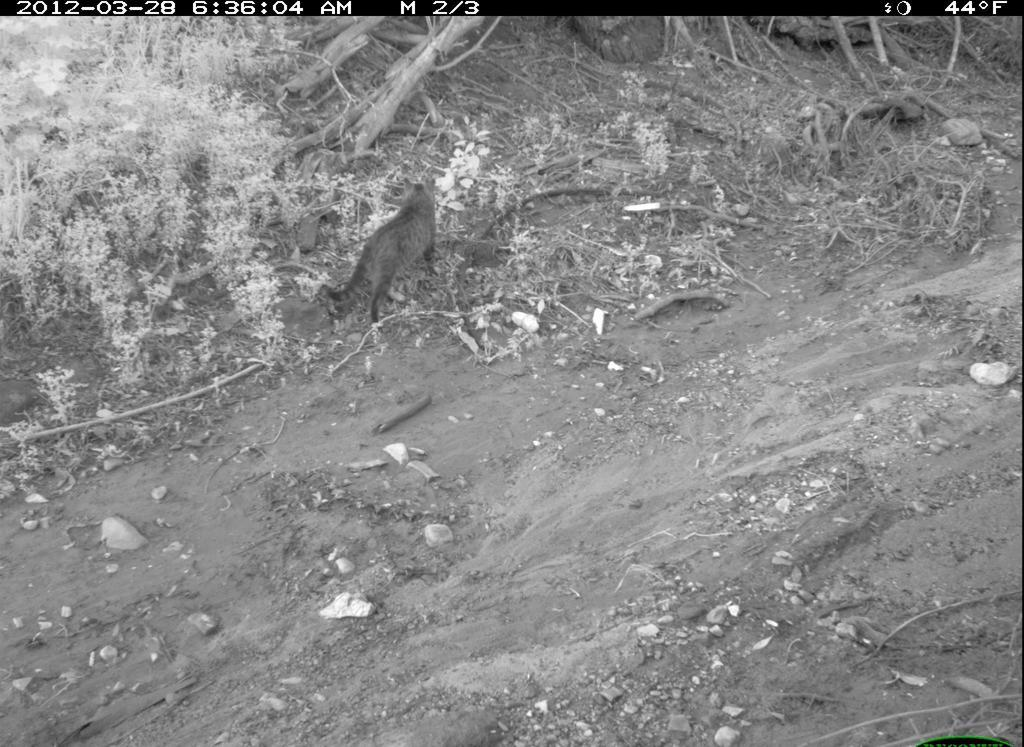cat: (312, 171, 456, 337)
